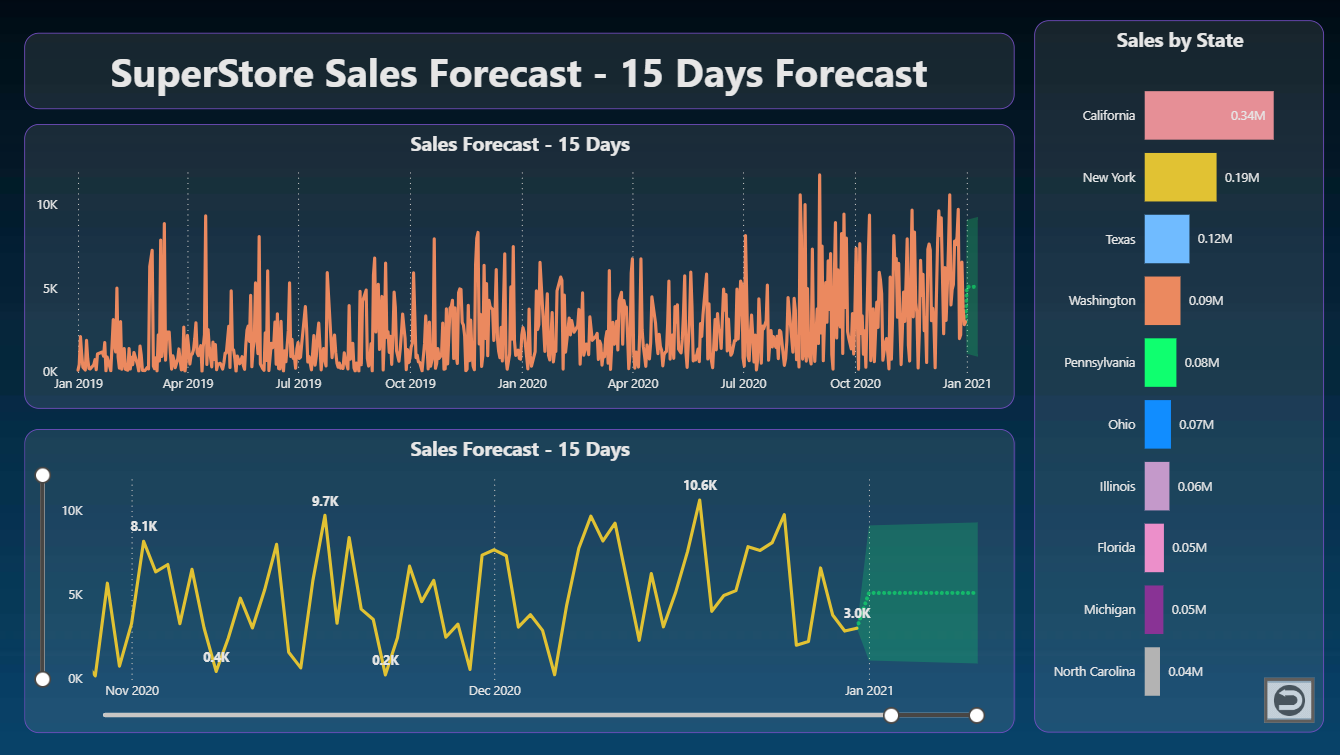

The page's visual inventory and layout, read from the dashboard file:
{"tool":"powerbi","page":{"name":"Forcast","canvas":[1280,720],"ordinal":1},"visuals":[{"type":"lineChart","title":" Sales Forecast - 15 Days","fields":{"Y":["Sum(SuperStore_Sales_Dataset.Sales)"],"Category":["SuperStore_Sales_Dataset.Order Date"]},"box":[25,119,942.9,271.4],"z":0},{"type":"lineChart","title":" Sales Forecast - 15 Days","fields":{"Y":["Sum(SuperStore_Sales_Dataset.Sales)"],"Category":["SuperStore_Sales_Dataset.Order Date"]},"box":[25,409.5,942.9,289.3],"z":1000},{"type":"clusteredBarChart","title":"Sales by State","fields":{"Category":["SuperStore_Sales_Dataset.State"],"Y":["Sum(SuperStore_Sales_Dataset.Sales)"]},"box":[986.9,20.2,276.2,678.6],"z":2000},{"type":"textbox","box":[25,32.1,942.9,72.6],"z":3000},{"type":"actionButton","box":[1206,646.4,47.6,42.9],"z":4000}]}

Visuals, with their boxes in screenshot pixels (x1, y1, x2, y2), scaled from the page's 1280x720 canvas onto the 1340x755 screenshot:
" Sales Forecast - 15 Days" lineChart: 26 125 1013 409
" Sales Forecast - 15 Days" lineChart: 26 429 1013 733
"Sales by State" clusteredBarChart: 1033 21 1322 733
textbox: 26 34 1013 110
actionButton: 1263 678 1312 723
